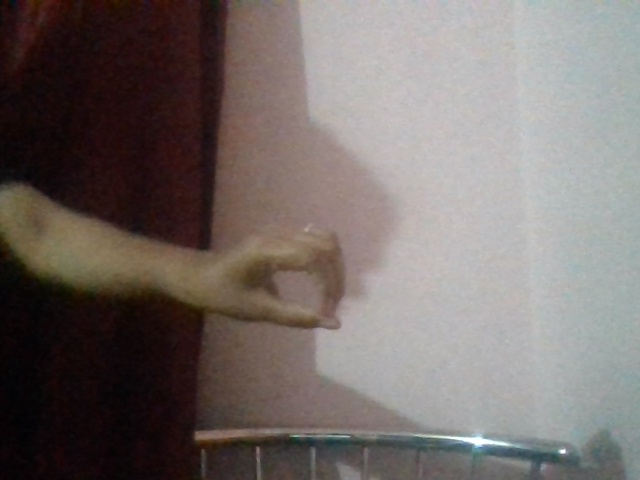O: (152, 163, 469, 374)
